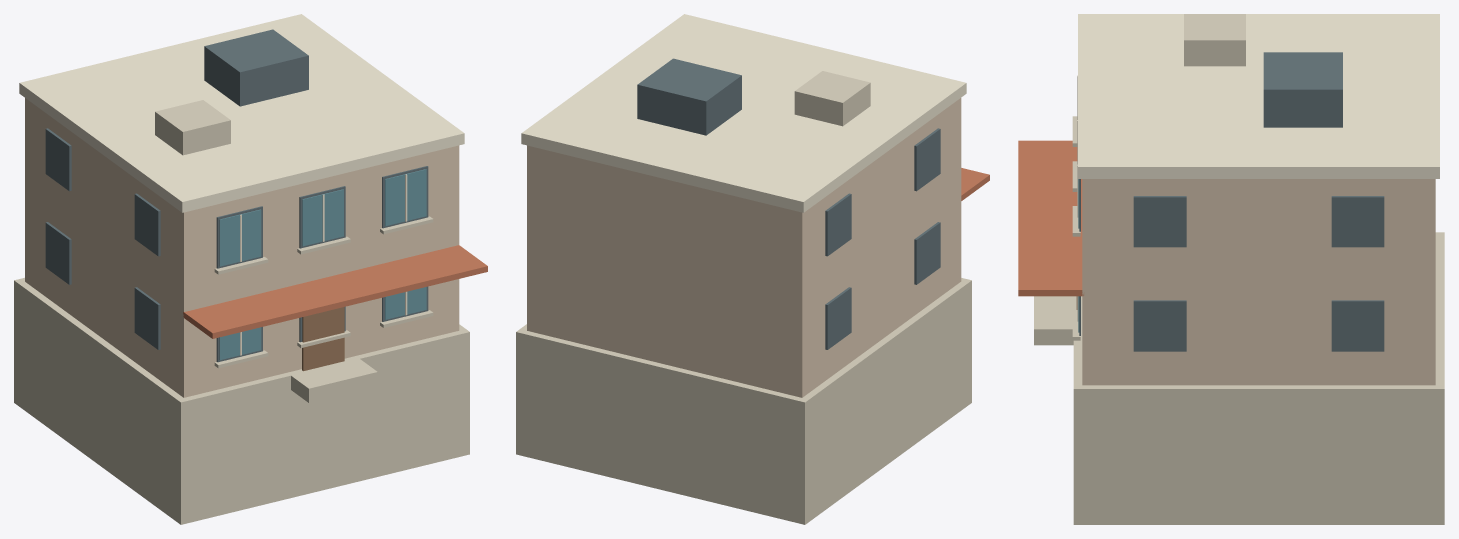
The model's file is shop-1.glb.
3 renders of one model, left to right at view 1: azimuth 30°, elevation 25°; view 2: azimuth 150°, elevation 25°; view 3: azimuth 270°, elevation 25°, orthographic. The views are drawn at different scales.
Bounding box in the file's own units: 8.4 × 9.85 × 9.65.
